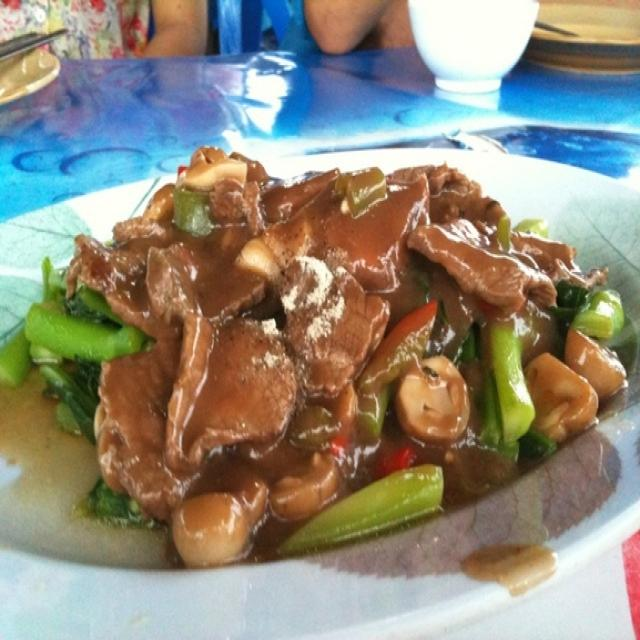牛肉菜式: (18, 90, 631, 597)
